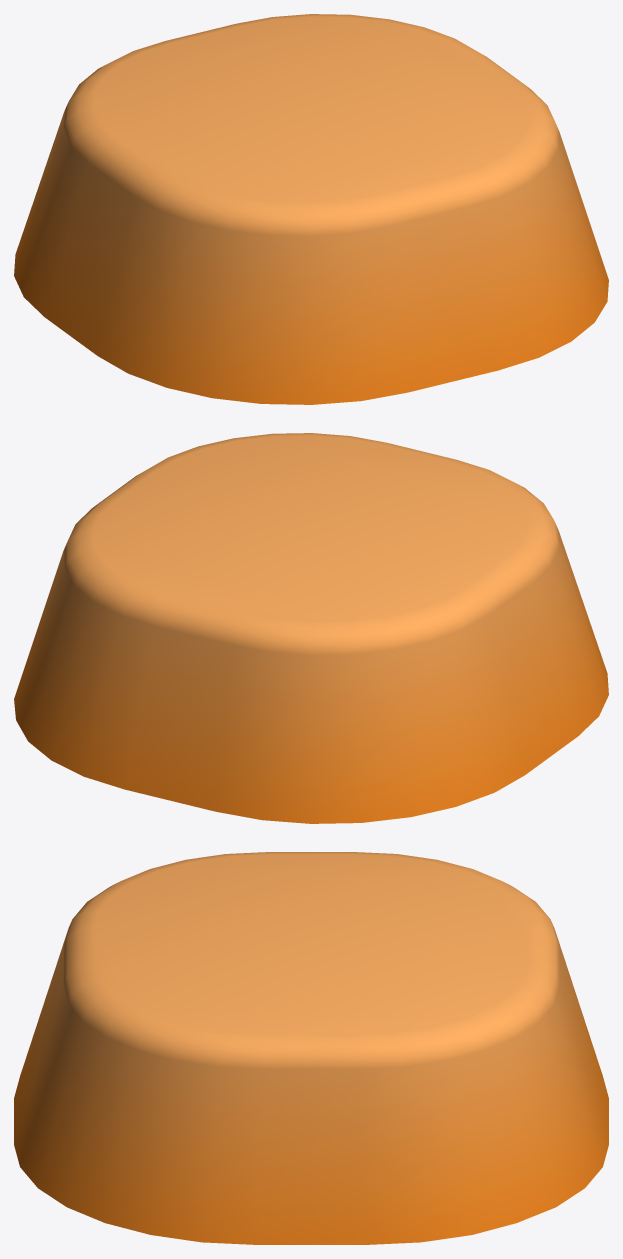
File: Rock_A_01.glb
3 views of the same model, one above another, from view 1: azimuth 30°, elevation 25°; view 2: azimuth 150°, elevation 25°; view 3: azimuth 270°, elevation 25° (orthographic). The views are drawn at different scales.
Visible parts, largest first — view 1: Rock_A_01; view 2: Rock_A_01; view 3: Rock_A_01.
Part boxes in pixels (left/top/right/bottom): Rock_A_01: left=14, top=14, right=608, bottom=404; Rock_A_01: left=14, top=433, right=608, bottom=823; Rock_A_01: left=14, top=852, right=608, bottom=1244.
Size of the model in its own units: 1.8 by 0.603 by 1.84.
1 material, 1 textured.
